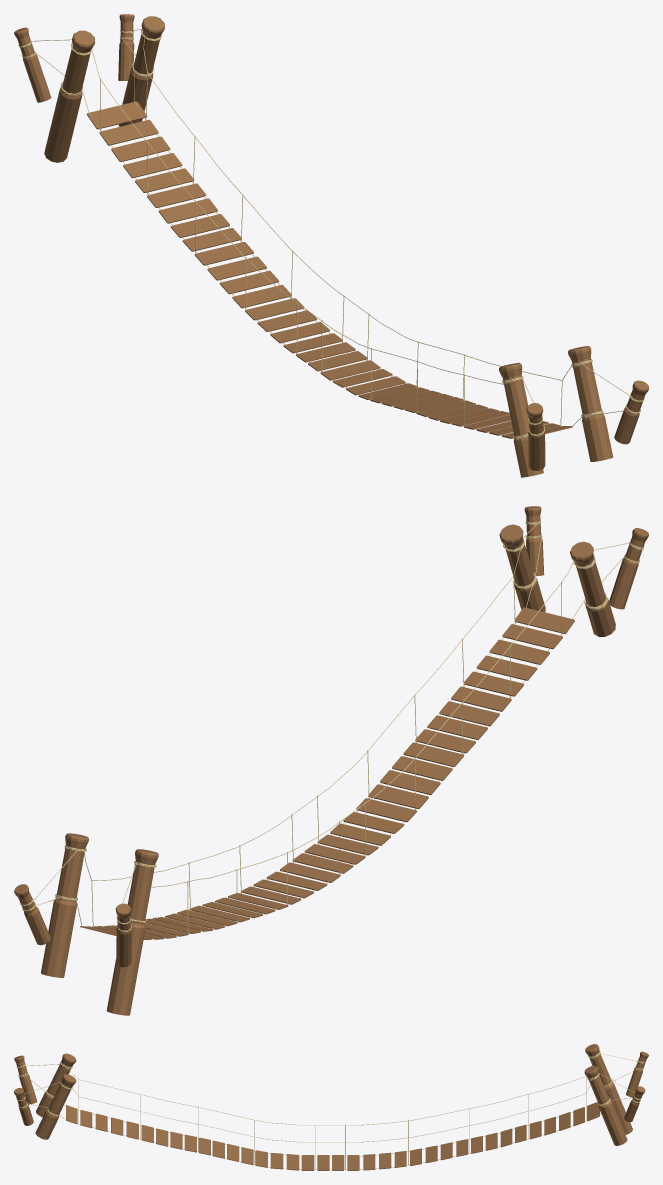
The model's file is ponteSospesoTerra.fbx.
The picture shows the model from 3 angles, top to bottom: view 1: azimuth 30°, elevation 25°; view 2: azimuth 150°, elevation 25°; view 3: azimuth 270°, elevation 25°; orthographic projection. The views are drawn at different scales.
Parts seen in each view (by area): view 1: Cylinder.003; view 2: Cylinder.003; view 3: Cylinder.003.
Part boxes in pixels (x1=…): Cylinder.003: x1=14, y1=14, x2=648, y2=477; Cylinder.003: x1=14, y1=506, x2=648, y2=1015; Cylinder.003: x1=14, y1=1044, x2=648, y2=1170.
Bounding box in the file's own units: 180 × 247 × 1322.
